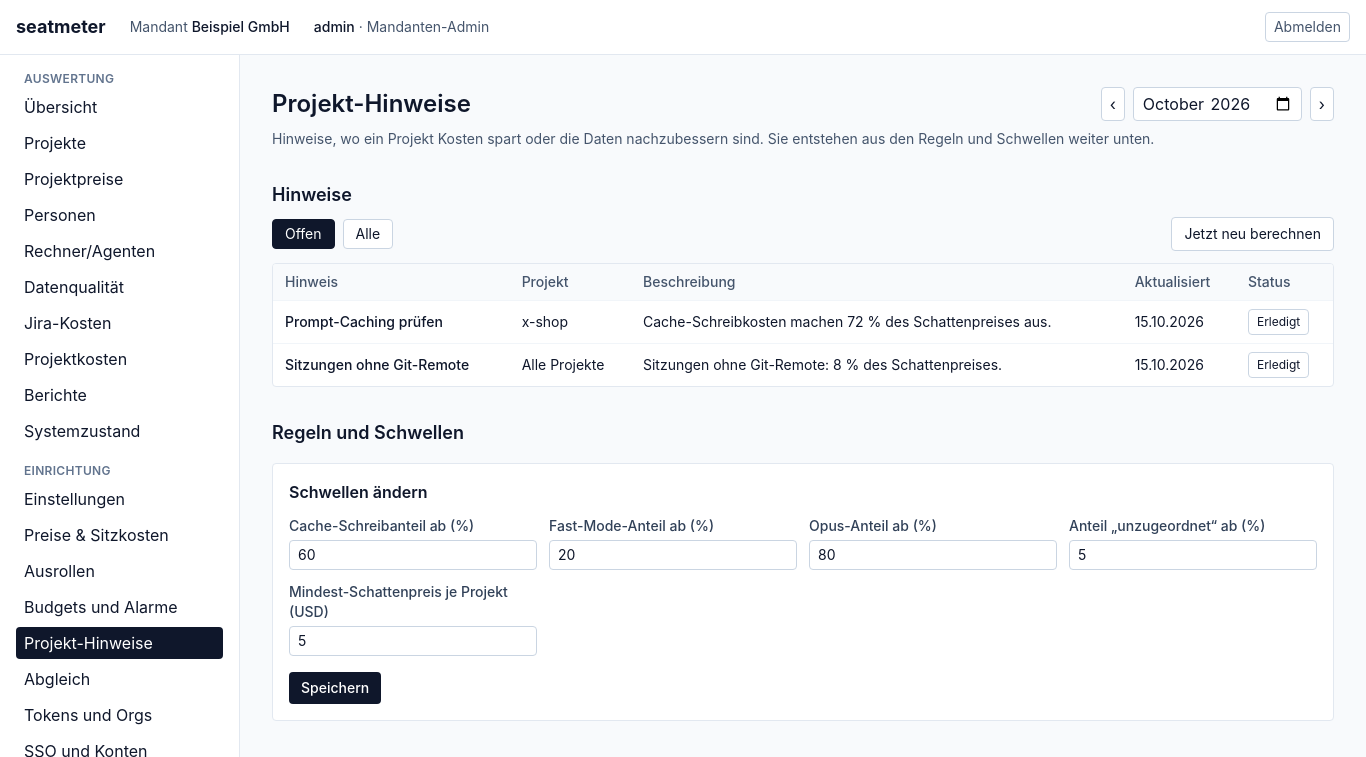
Test: Regeln und Neuberechnung › lehnt Werte außerhalb des Bereichs vorab ab
This screenshot has width=1366, height=757.
Replace the text in the field labelled "Opus-Anteil ab (%)" with "150" at (933, 555), box [809,540,1057,570]
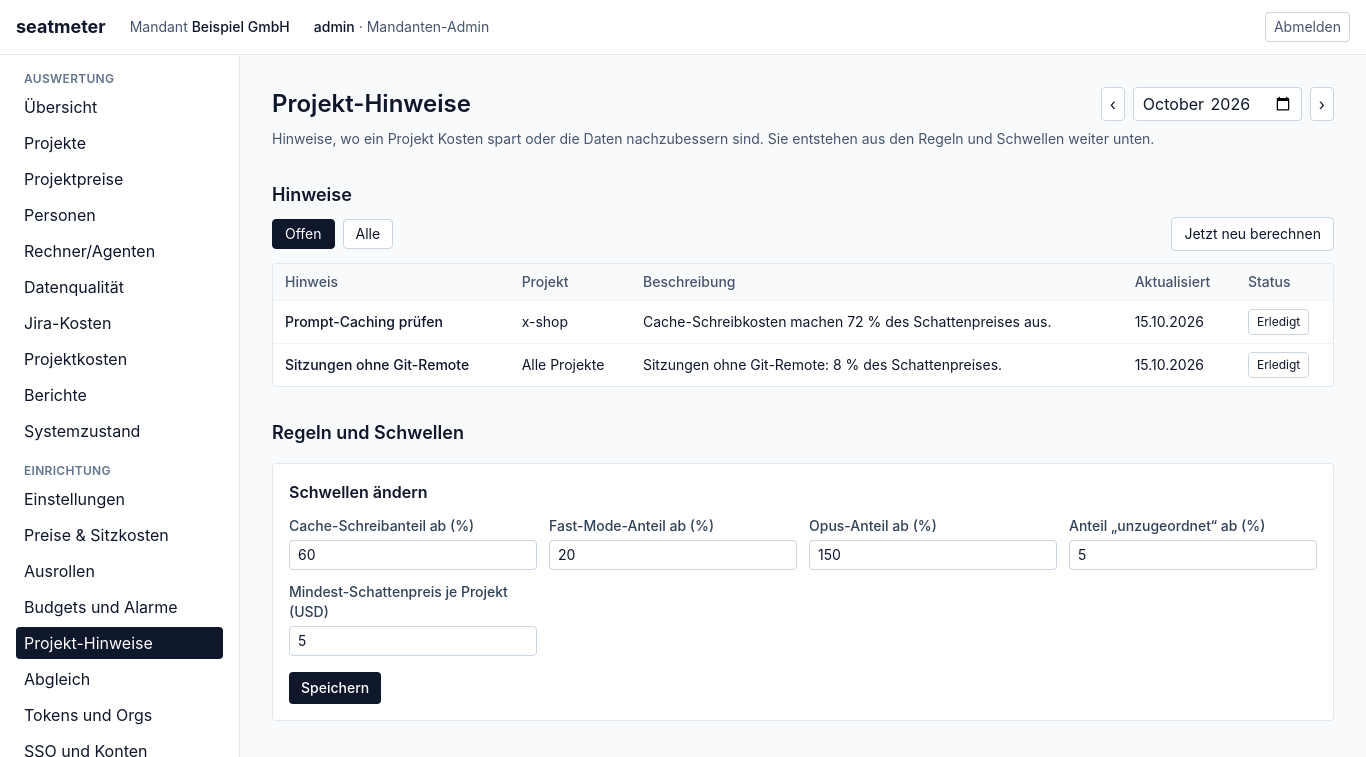
Click the button "Speichern" at (335, 688), box [289,672,381,704]
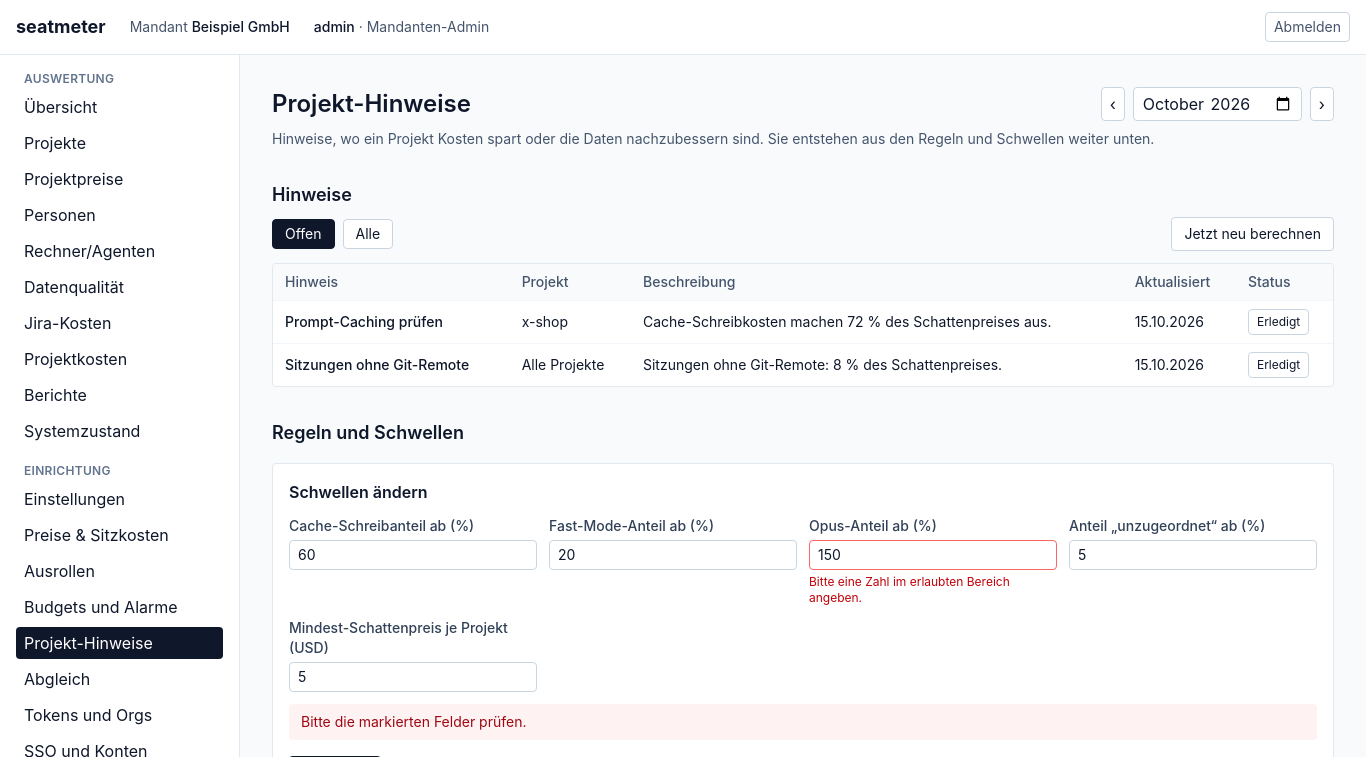
Now the text "Bitte die markierten Felder prüfen." is shown, box [289,704,1317,740]
